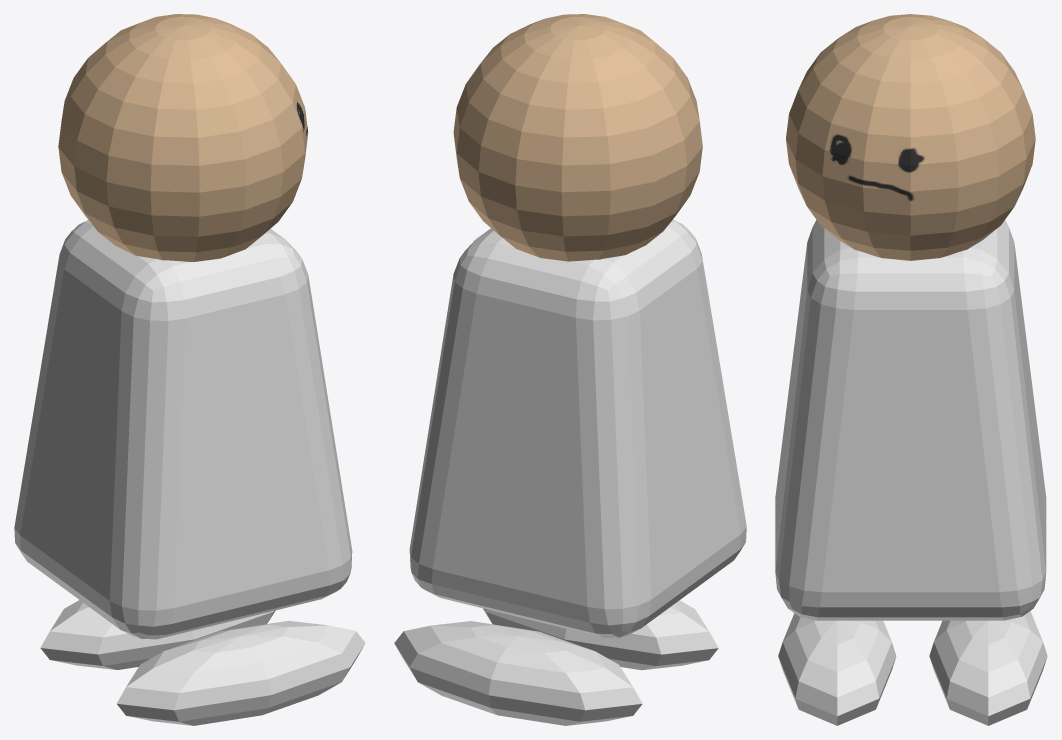
File: generic.fbx
3 renders of one model, left to right at view 1: azimuth 30°, elevation 25°; view 2: azimuth 150°, elevation 25°; view 3: azimuth 270°, elevation 25°, orthographic.
Visible parts, largest first — view 1: Body, Head, RFoot, LFoot; view 2: Body, Head, LFoot, RFoot; view 3: Body, Head, LFoot, RFoot.
Boxes of the visible parts, x1,y1,x2,y2 form: Body: [14, 220, 352, 639]; Head: [58, 14, 308, 262]; RFoot: [116, 620, 365, 725]; LFoot: [40, 600, 275, 669]; Body: [409, 220, 746, 637]; Head: [453, 14, 702, 261]; LFoot: [394, 621, 642, 725]; RFoot: [482, 600, 718, 670]; Body: [775, 220, 1046, 620]; Head: [786, 14, 1035, 260]; LFoot: [929, 611, 1047, 725]; RFoot: [778, 613, 896, 725].
Size of the model in its own units: 215 by 517 by 194.
